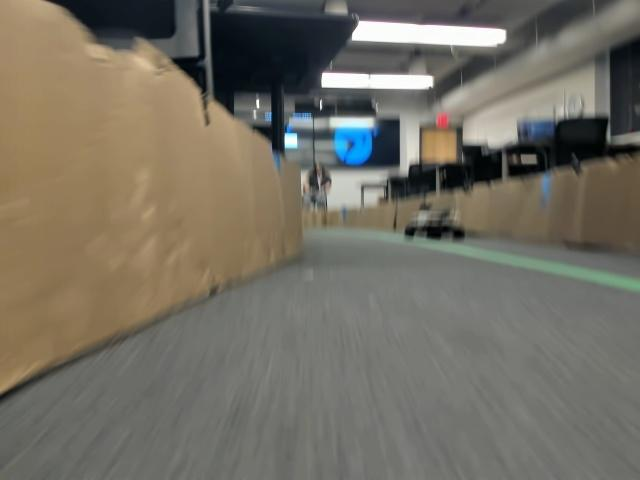Car: (404, 204, 466, 239)
